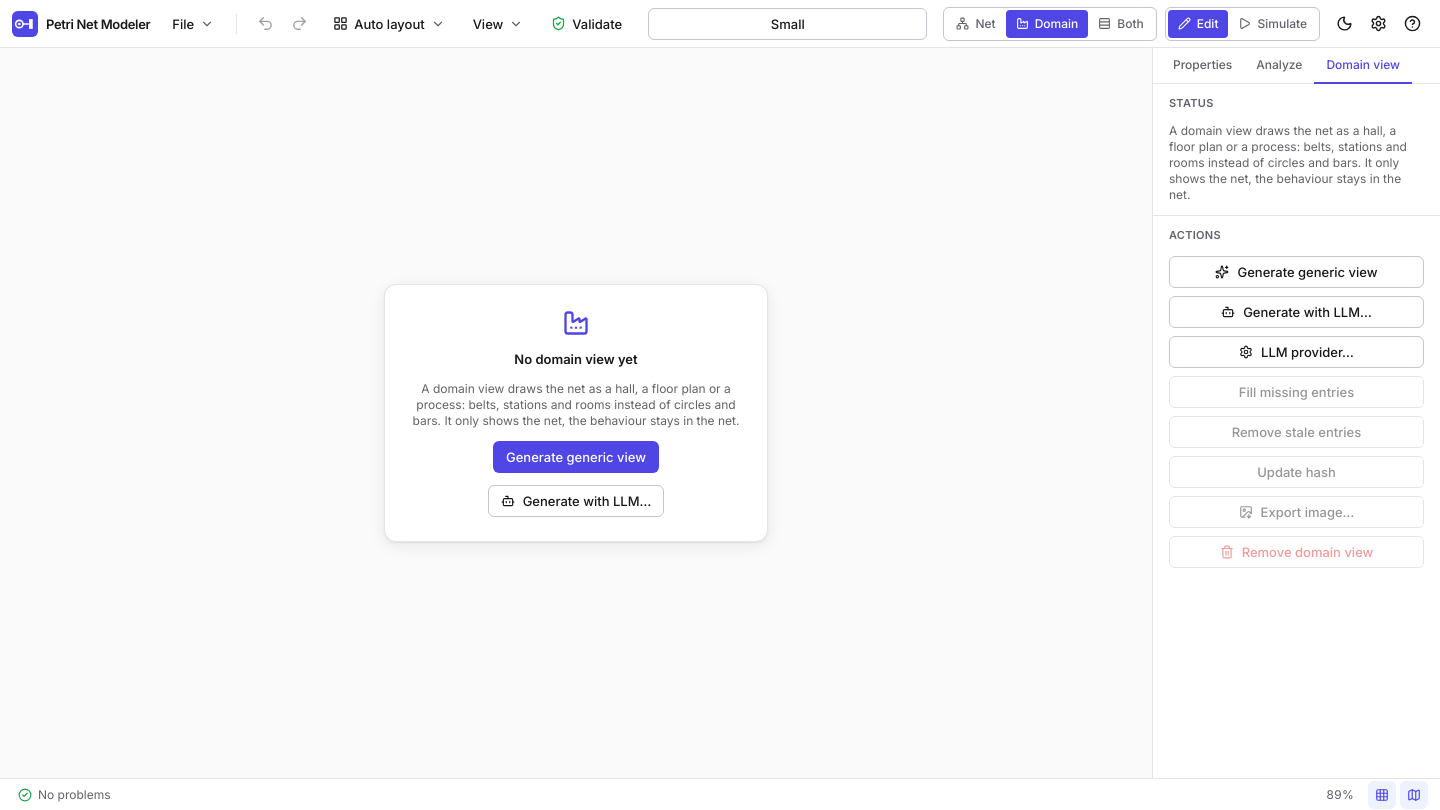
Test case: the guided form (N4) › checks the fields at once, and keeps the buttons off while there is an error
The image size is (1440, 810).
Click the button with test id "domain-generate-llm".
click(1296, 312)  # box [1169, 296, 1424, 328]
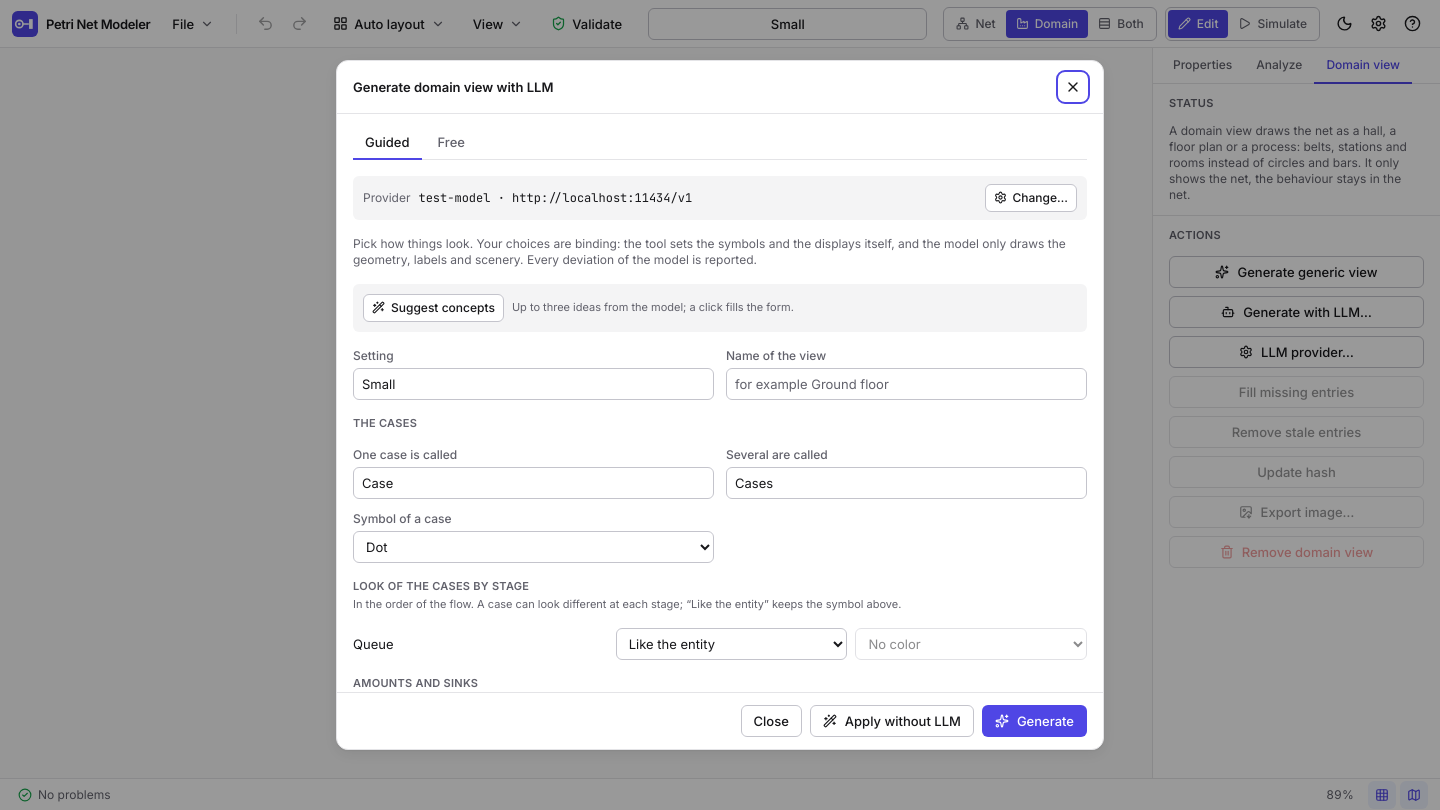
Check: the button with test id "llm-start" is enabled, box [982, 705, 1087, 737]
Select "Emoji…" in the dropdown with test id "guided-entity-symbol" at (534, 547), box [353, 531, 714, 563]
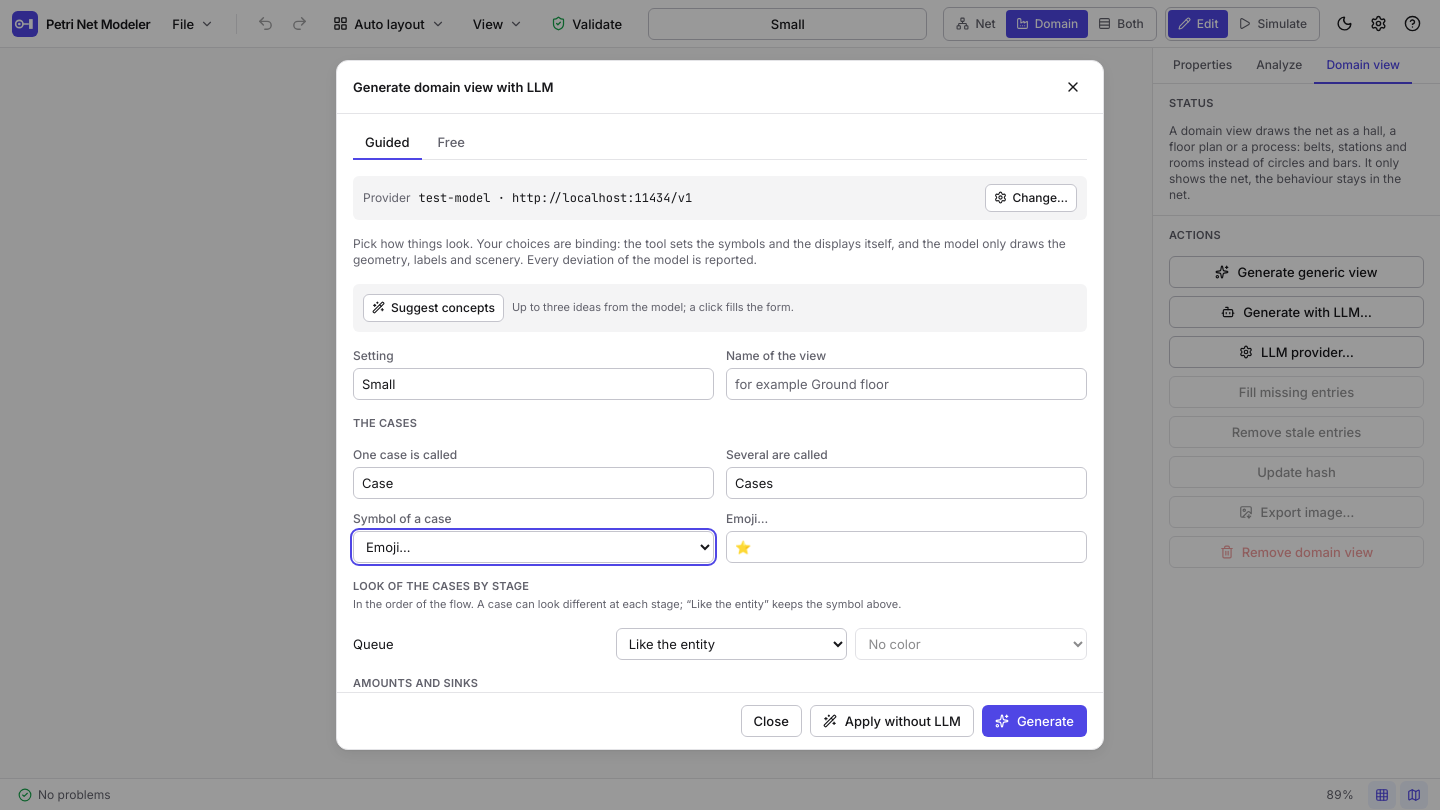
Replace the text in the field with test id "guided-entity-emoji" with "ab" at (906, 547), box [726, 531, 1087, 563]
Then press Enter
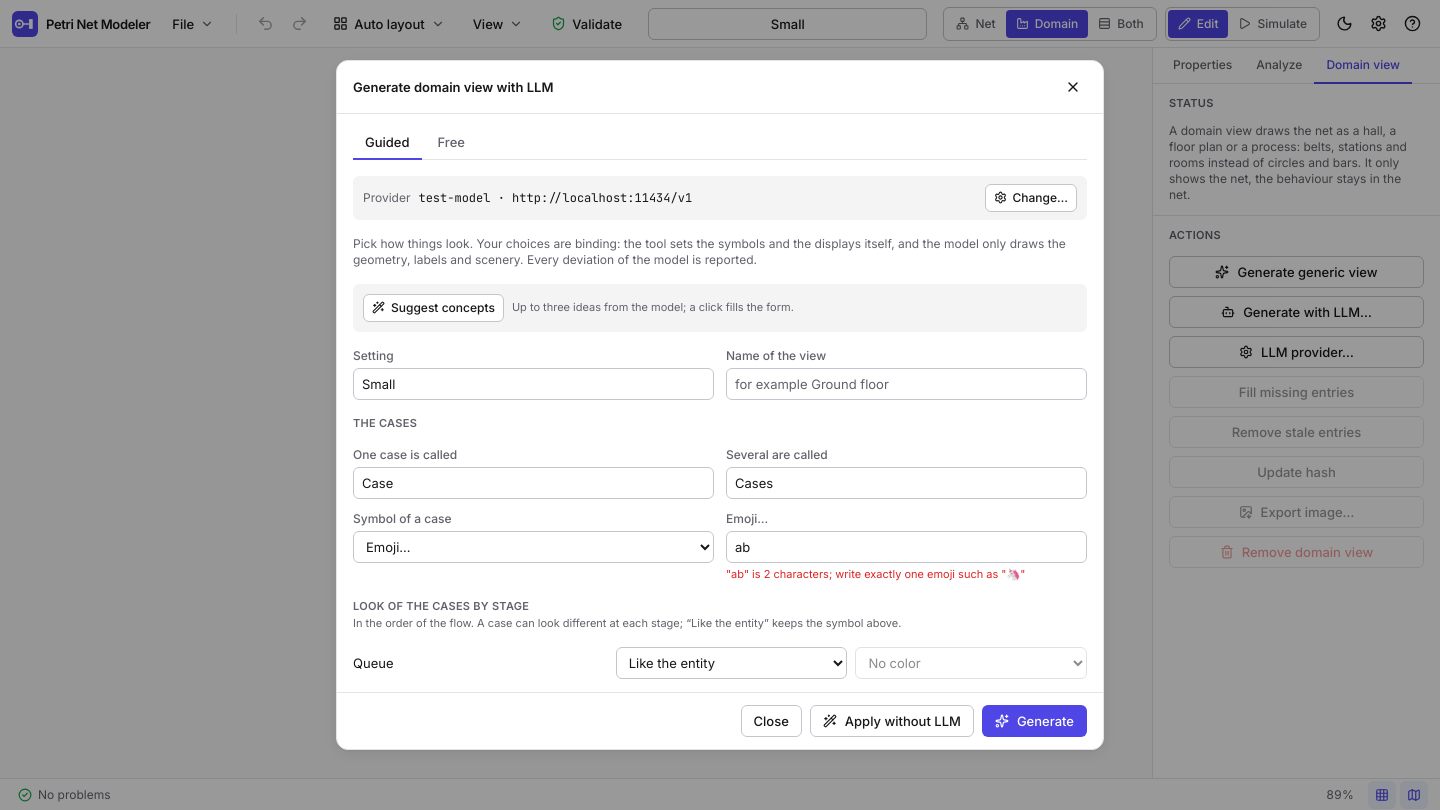
Check: the text "\"ab\" is 2 characters; write exactly one emoji such as \"🦄\"" is shown, box [726, 567, 1025, 581]
Replace the text in the field with test id "guided-entity-emoji" with "🦄" at (906, 547), box [726, 531, 1087, 563]
Then press Enter
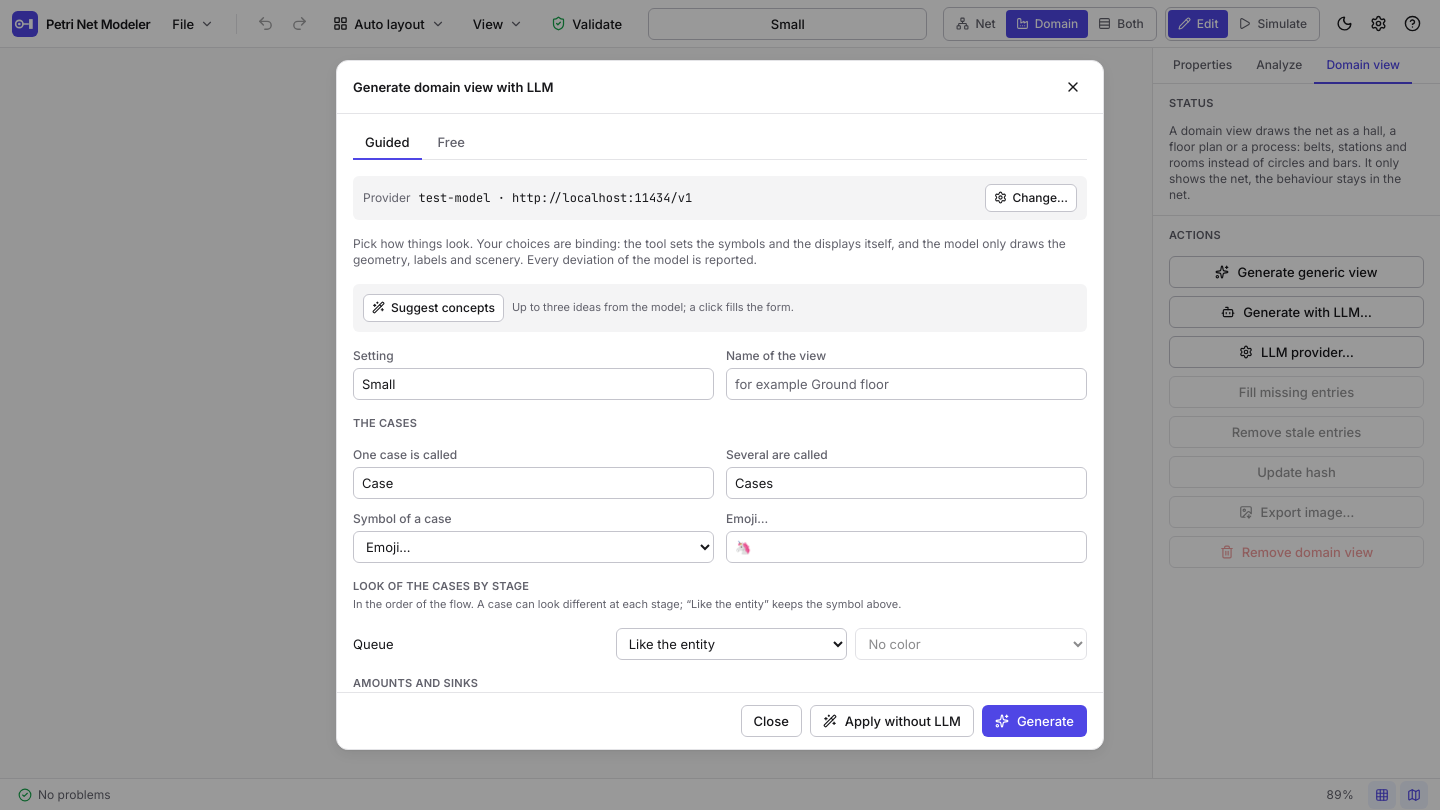
Check: the button with test id "llm-start" is enabled, box [982, 705, 1087, 737]
Check: the button with test id "guided-apply" is enabled, box [810, 705, 974, 737]
Check: the text "exactly one emoji" is gone
